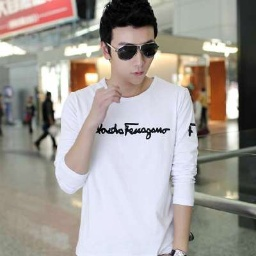face: (100, 1, 158, 88)
